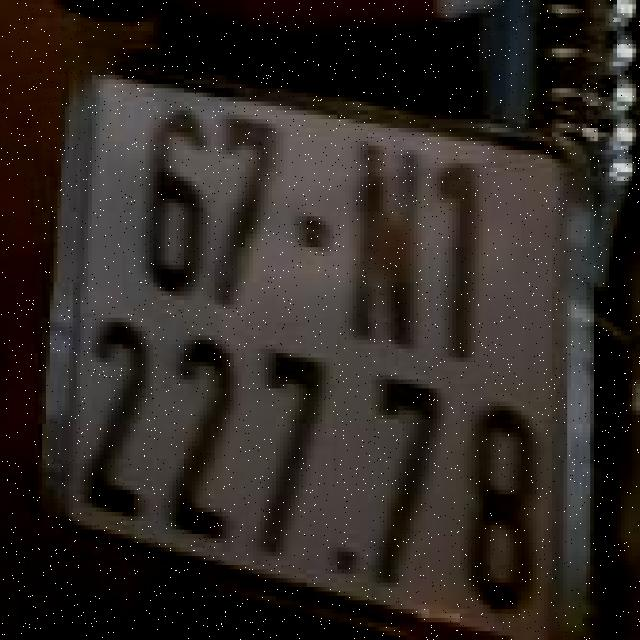1: (439, 152, 492, 360)
2: (159, 320, 240, 545), (79, 298, 155, 532)
6: (126, 97, 211, 300)
7: (355, 362, 454, 600), (256, 331, 330, 583), (211, 95, 287, 329)
8: (451, 384, 562, 614)
N: (347, 122, 423, 364)
